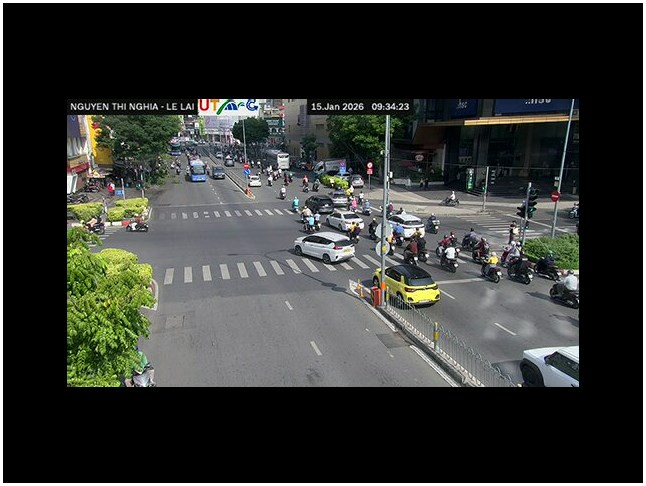car: (357, 258, 442, 309), (519, 344, 579, 386), (294, 230, 358, 262), (324, 211, 364, 237)
